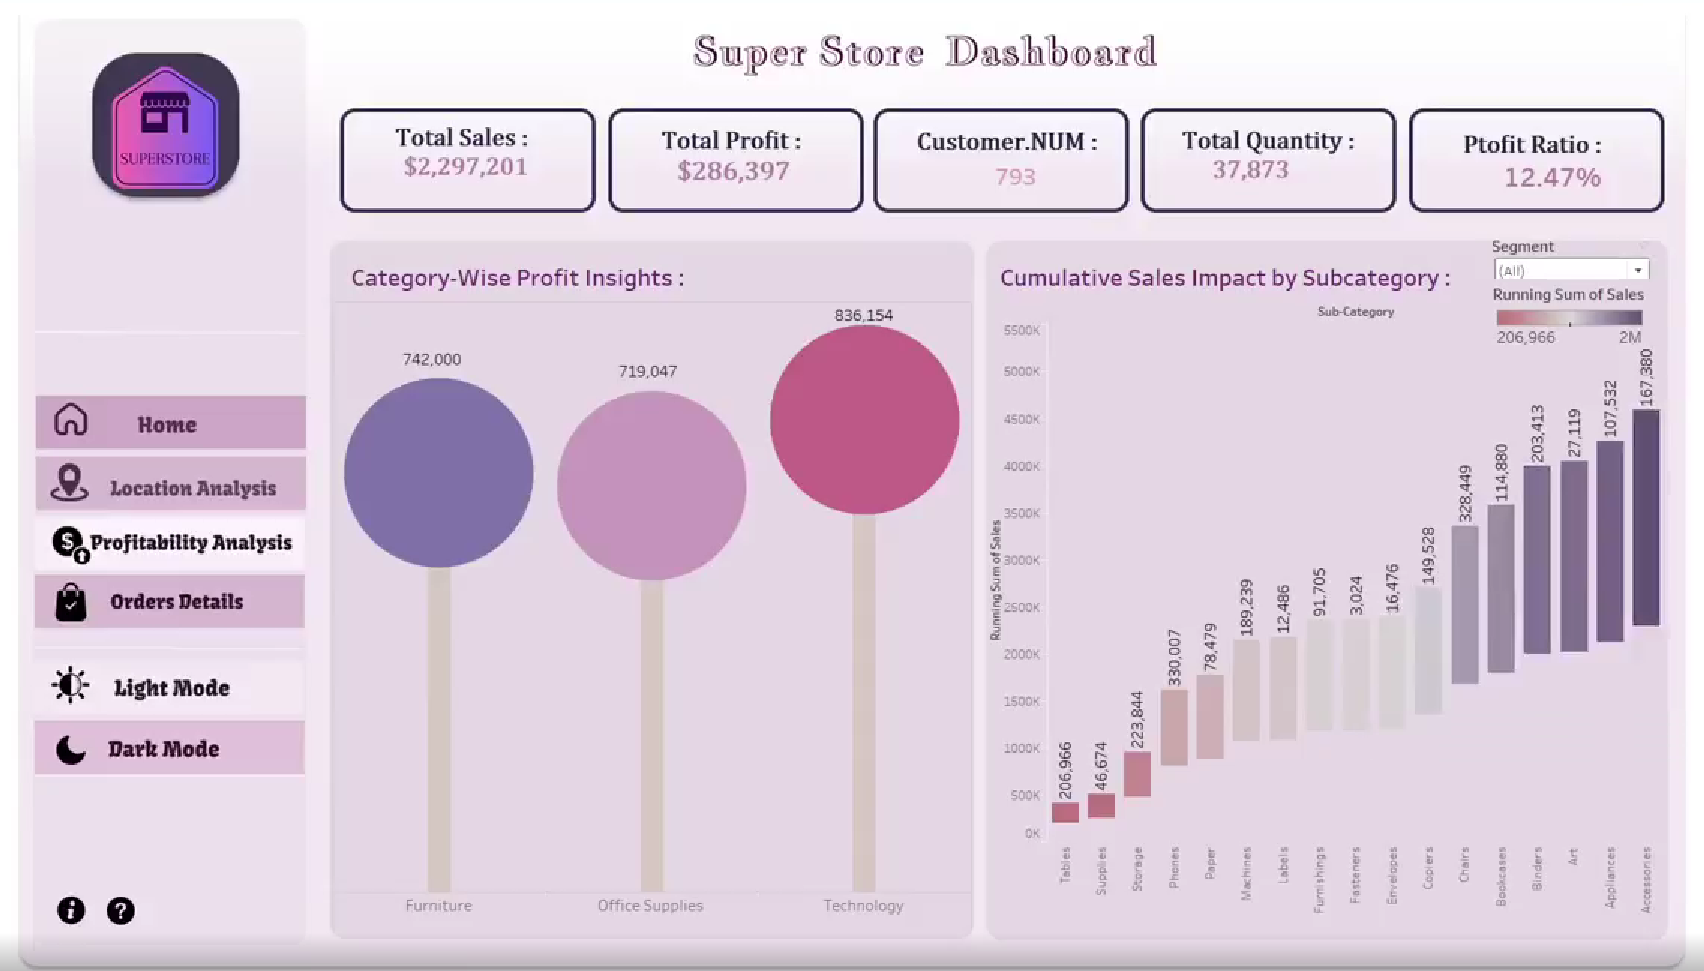

What the dashboard file says about the page in this screenshot:
{"tool":"tableau","page":{"name":"Test_profitability","canvas":[1720,1001],"ordinal":9},"visuals":[{"type":"image","param":"Image/Group 8 (3).png","box":[8,8,1704,985]},{"type":"worksheet","title":"darksales card (2)","mark":"Automatic","box":[369,140,208,73]},{"type":"worksheet","title":"DarkTotal Profit Card (2)","mark":"Automatic","box":[606,144,231,75]},{"type":"worksheet","title":"DarkQuantity Card (2)","mark":"Automatic","box":[1155,145,219,76]},{"type":"worksheet","title":"DarkCustomer.NO (2)","mark":"Automatic","box":[848,146,265,94]},{"type":"worksheet","title":"DarkProfit Ratio Card (2)","mark":"Automatic","box":[1402,149,241,66]},{"type":"filter","title":"DarkCustomer.NO (2)","param":"[federated.0ffl41n0sf1a36115xkrm1p4c34k].[none:Segment:nk]","box":[1488,251,161,43]},{"type":"text","box":[344,277,343,30]},{"type":"text","box":[993,277,472,30]},{"type":"legend","title":"Waterfall chart","param":"[federated.0ffl41n0sf1a36115xkrm1p4c34k].[cum:sum:Sales:qk]","box":[1489,299,154,62]},{"type":"worksheet","title":"Waterfall chart","mark":"GanttBar","rows":["Sales"],"cols":["Sub-Category"],"box":[983,316,678,641]},{"type":"worksheet","title":"Lollipop Chart","mark":"Automatic","rows":["Sales","Sales"],"cols":["Category"],"box":[329,317,639,631]},{"type":"dashboard-object","box":[35,414,264,43]},{"type":"dashboard-object","box":[36,475,256,50]},{"type":"dashboard-object","box":[35,594,263,47]},{"type":"dashboard-object","box":[35,683,257,38]},{"type":"dashboard-object","box":[34,746,255,34]},{"type":"worksheet","title":"Help Button","mark":"Shape","box":[87,896,68,57]},{"type":"worksheet","title":"Info Button","mark":"Shape","box":[38,910,64,39]}]}

Visuals, with their boxes in screenshot pixels (x1, y1, x2, y2), scaled from the page's 1720x1001 canvas onto the 1704x971 screenshot:
image: select_region(8, 8, 1696, 963)
"darksales card (2)" worksheet: select_region(366, 136, 572, 207)
"DarkTotal Profit Card (2)" worksheet: select_region(600, 140, 829, 212)
"DarkQuantity Card (2)" worksheet: select_region(1144, 141, 1361, 214)
"DarkCustomer.NO (2)" worksheet: select_region(840, 142, 1103, 233)
"DarkProfit Ratio Card (2)" worksheet: select_region(1389, 145, 1628, 209)
"DarkCustomer.NO (2)" filter: select_region(1474, 243, 1634, 285)
text: select_region(341, 269, 681, 298)
text: select_region(984, 269, 1451, 298)
"Waterfall chart" legend: select_region(1475, 290, 1628, 350)
"Waterfall chart" worksheet (GanttBar marks): select_region(974, 307, 1646, 928)
"Lollipop Chart" worksheet: select_region(326, 307, 959, 920)
dashboard-object: select_region(35, 402, 296, 443)
dashboard-object: select_region(36, 461, 289, 509)
dashboard-object: select_region(35, 576, 295, 622)
dashboard-object: select_region(35, 663, 289, 699)
dashboard-object: select_region(34, 724, 286, 757)
"Help Button" worksheet (Shape marks): select_region(86, 869, 154, 924)
"Info Button" worksheet (Shape marks): select_region(38, 883, 101, 921)
